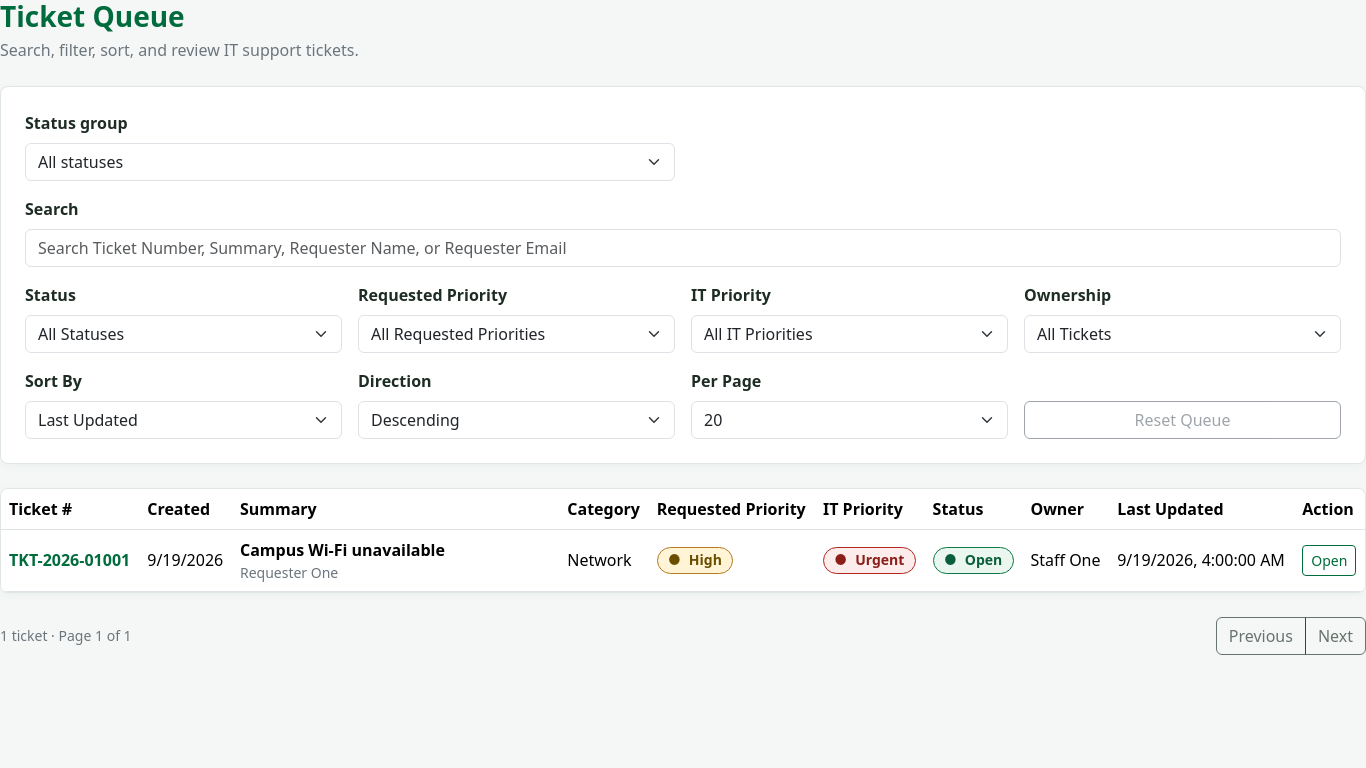
Test case: Lab 3 Staff Ticket Queue UI › shows a distinct no-results state and can clear filters
This screenshot has width=1366, height=768.
Select "Closed" in the dropdown labelled "Status" at (184,334), box [25,315,342,353]
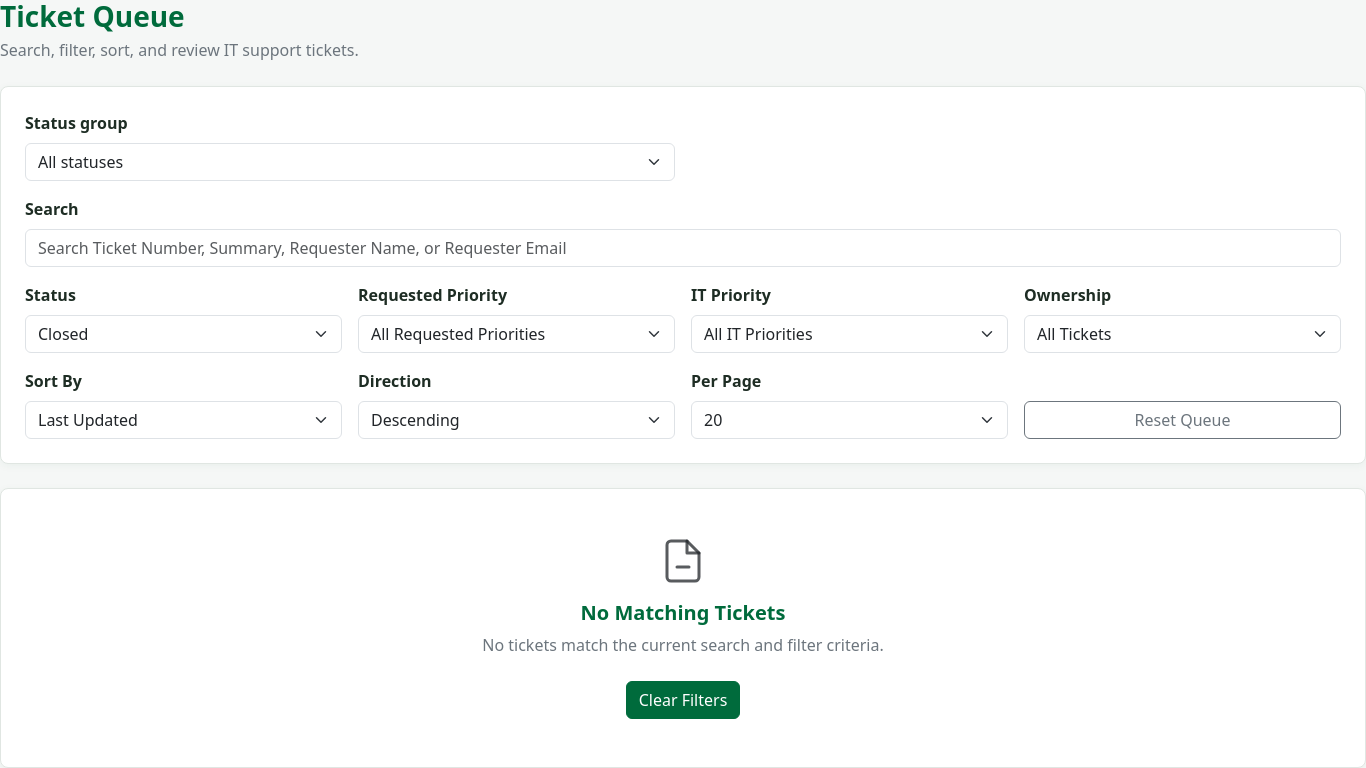
Expected: the heading "No Matching Tickets" is shown, [581,601,785,625]
Click the button "Clear Filters" at (683,700), box [626,681,740,719]
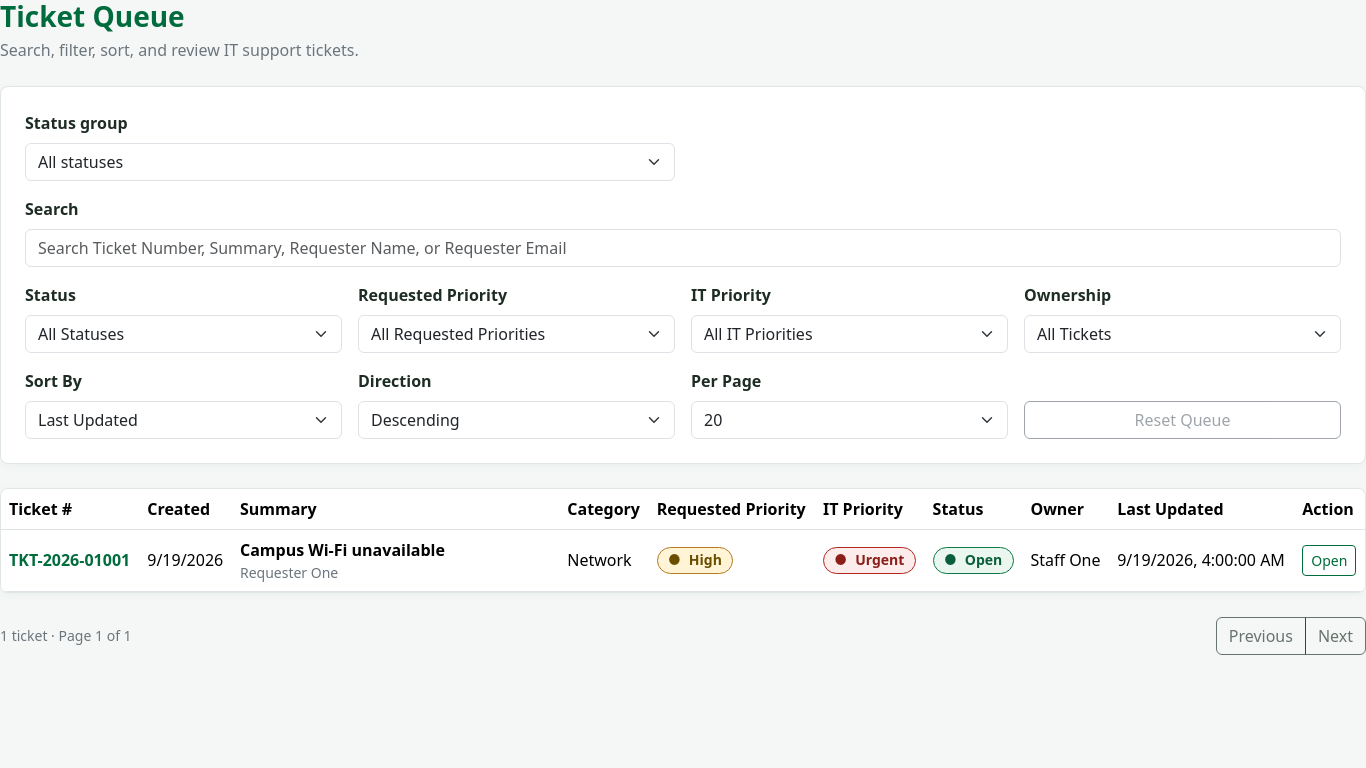
Expected: the text "TKT-2026-01001" is shown, [1,529,139,591]
